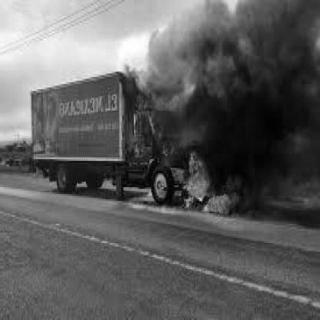Fire: (177, 157, 241, 213), (132, 78, 184, 118)
Smoke: (162, 0, 320, 138)
